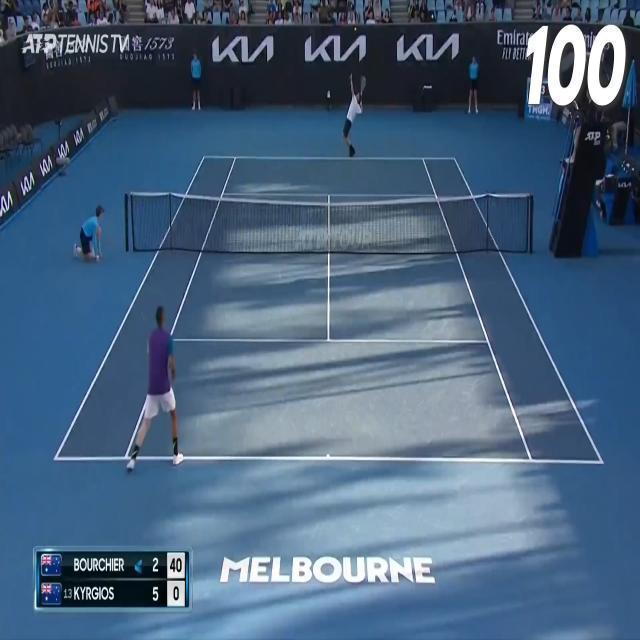court: (34, 156, 619, 466)
net: (123, 191, 534, 256)
player: (126, 306, 184, 472)
